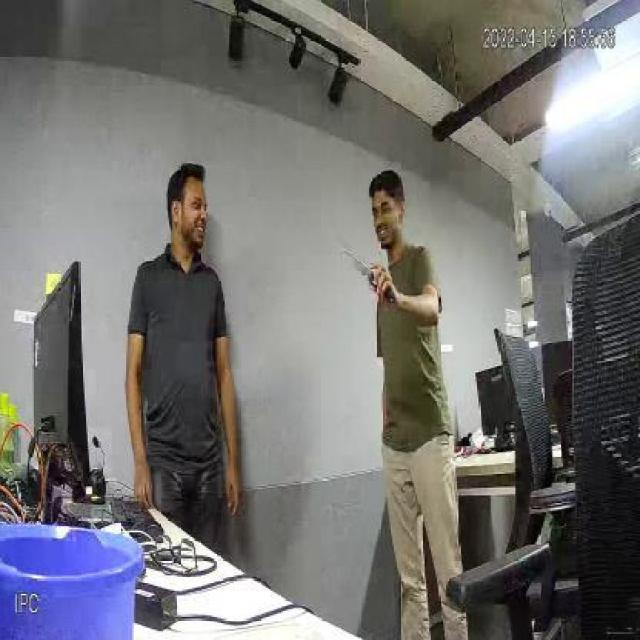Knife: (337, 245, 376, 298)
